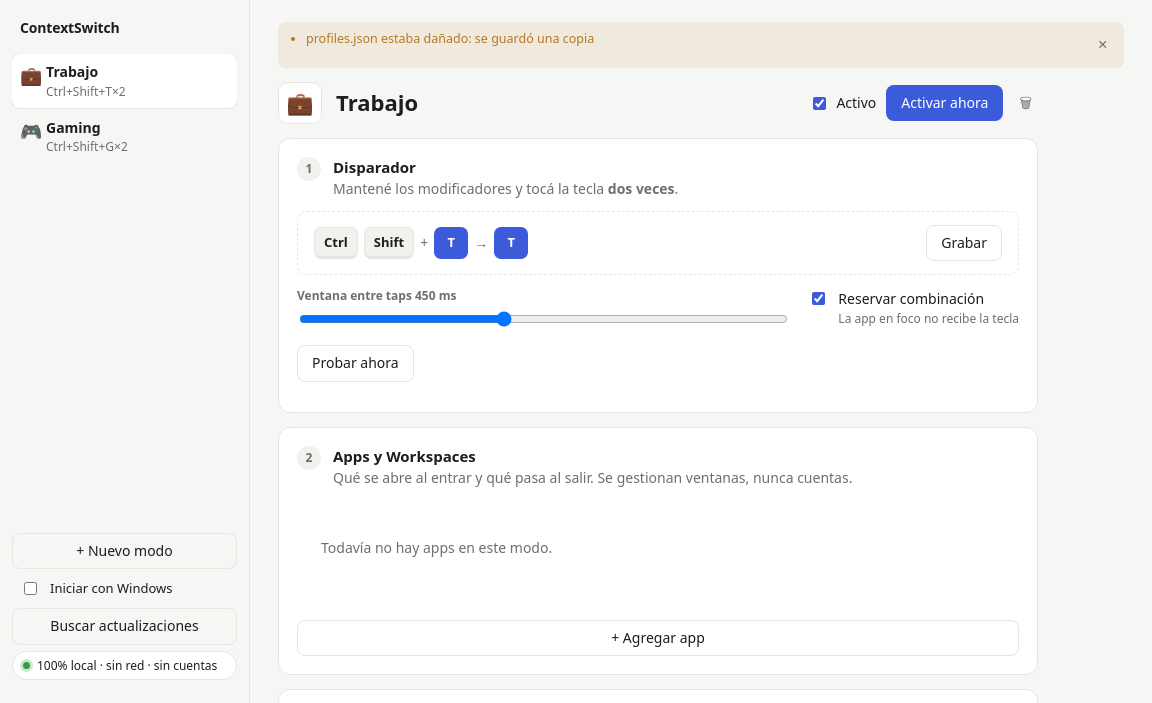
it: <App/> (flujo de Ajustes con backend simulado) › muestra los avisos del arranque (ej. config recuperada) y se pueden cerrar
Check: the list item "profiles.json estaba dañado: se guardó una copia" is shown, box [306,30,594,48]
What coordinates should you click on to do the following:
click the button named "Cerrar aviso"
I would click on:
 (1103, 45)
Its box is [1092,30,1114,60].
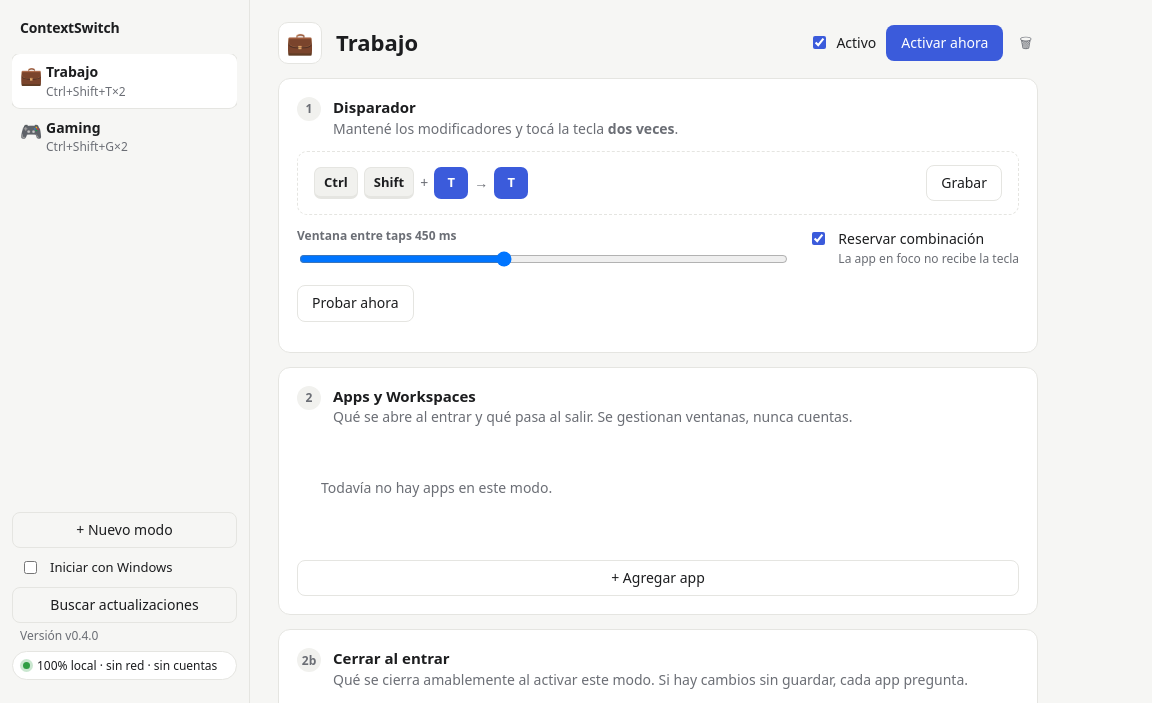
Check: the list item "estaba dañado" is gone
